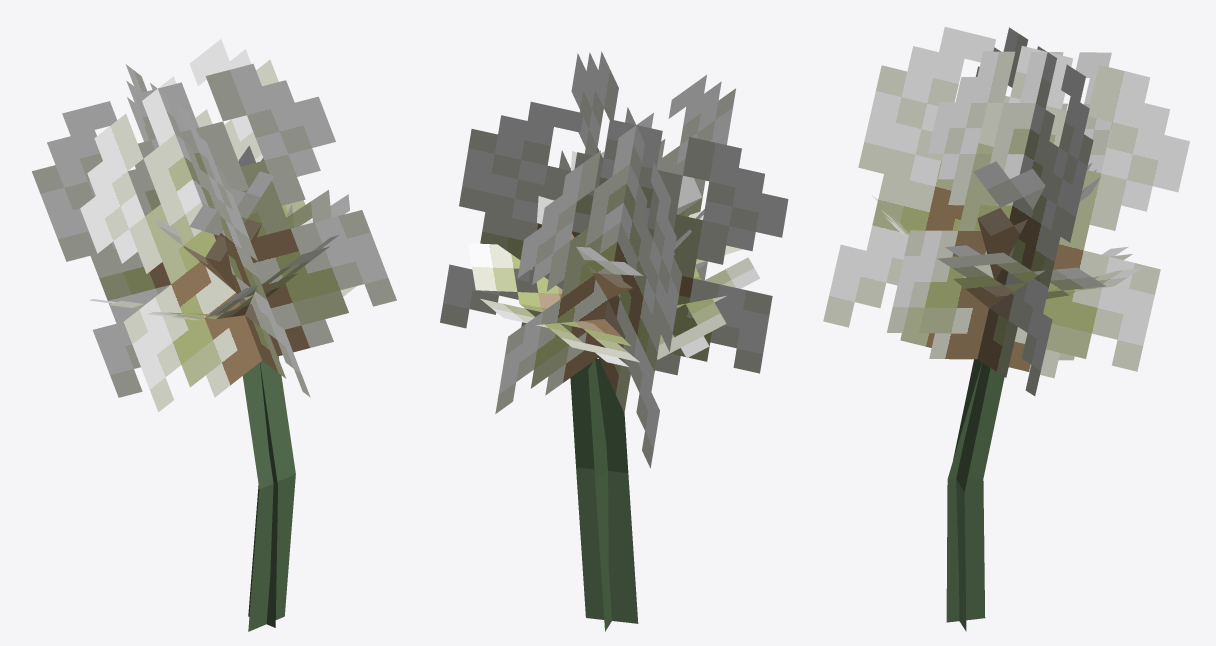
File: clover.fbx
3 views of the same model, side by side, from view 1: azimuth 30°, elevation 25°; view 2: azimuth 150°, elevation 25°; view 3: azimuth 270°, elevation 25° (orthographic). The views are drawn at different scales.
Visible parts, largest first — view 1: Clover; view 2: Clover; view 3: Clover.
Boxes of the visible parts, <box> form: Clover: <box>32,39,396,631</box>; Clover: <box>440,51,788,631</box>; Clover: <box>823,27,1189,631</box>.
Bounding box in the file's own units: 44.2 × 75.84 × 44.45.
1 material, 1 textured.
